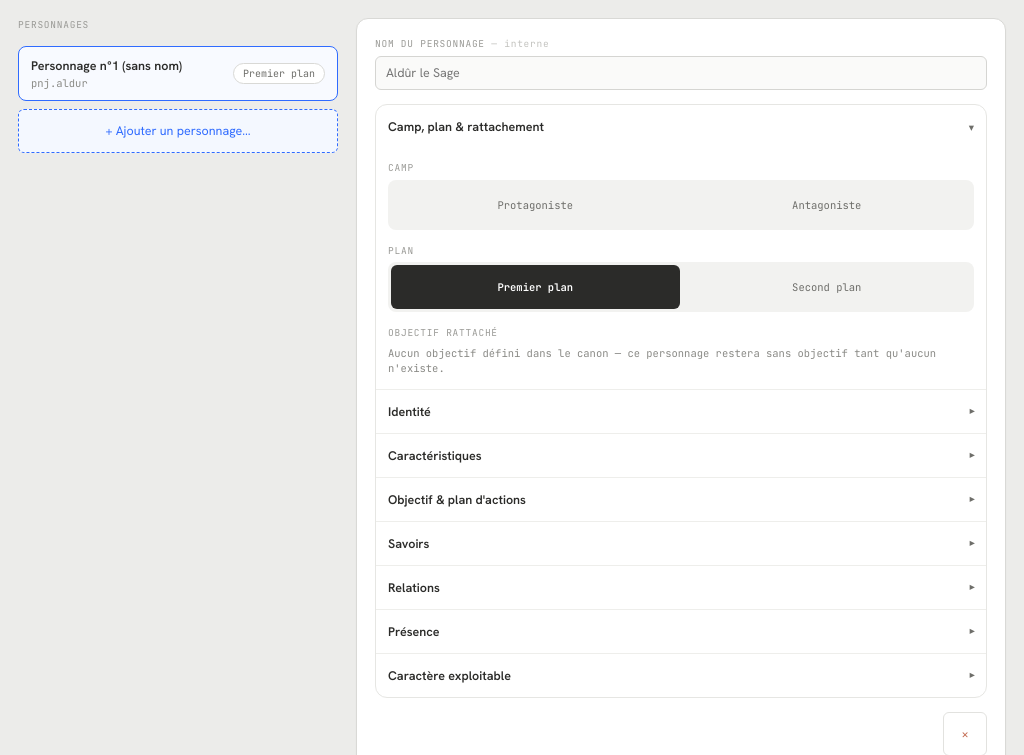
Test: FichePersonnage - bloc Caracteristiques › PV derive exactement de FO+AG+EN, jamais stocke
Click the button "Caractéristiques ▾": {"x": 435, "y": 455} [376,433,986,477]
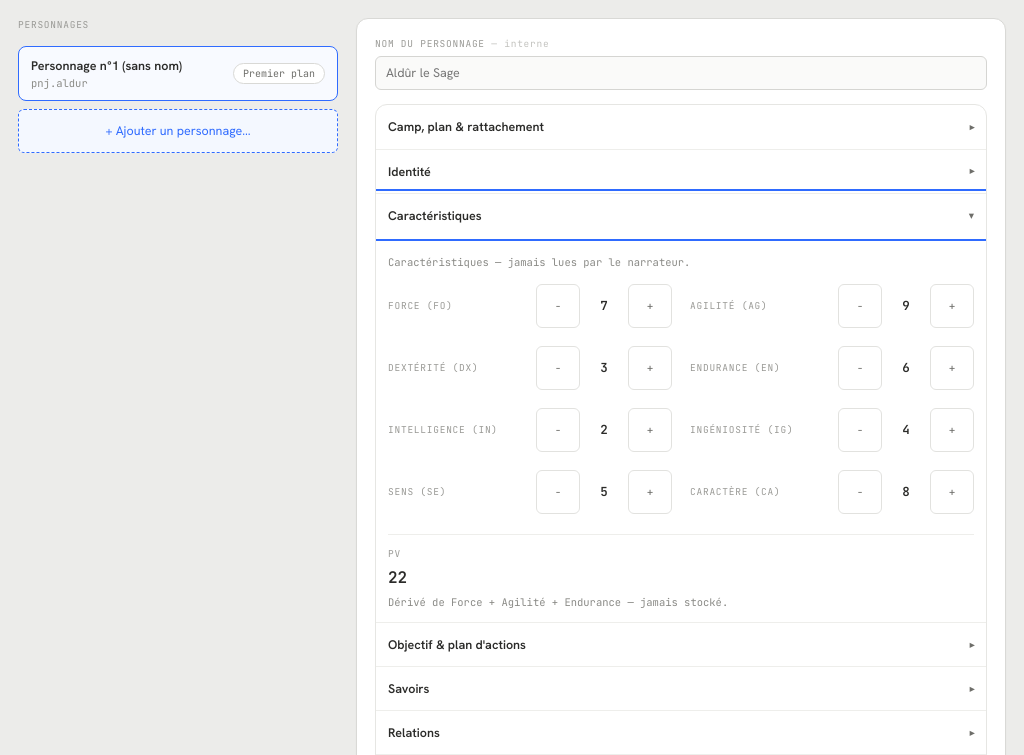
Expected: the text "22" is shown, [388,567,407,588]
